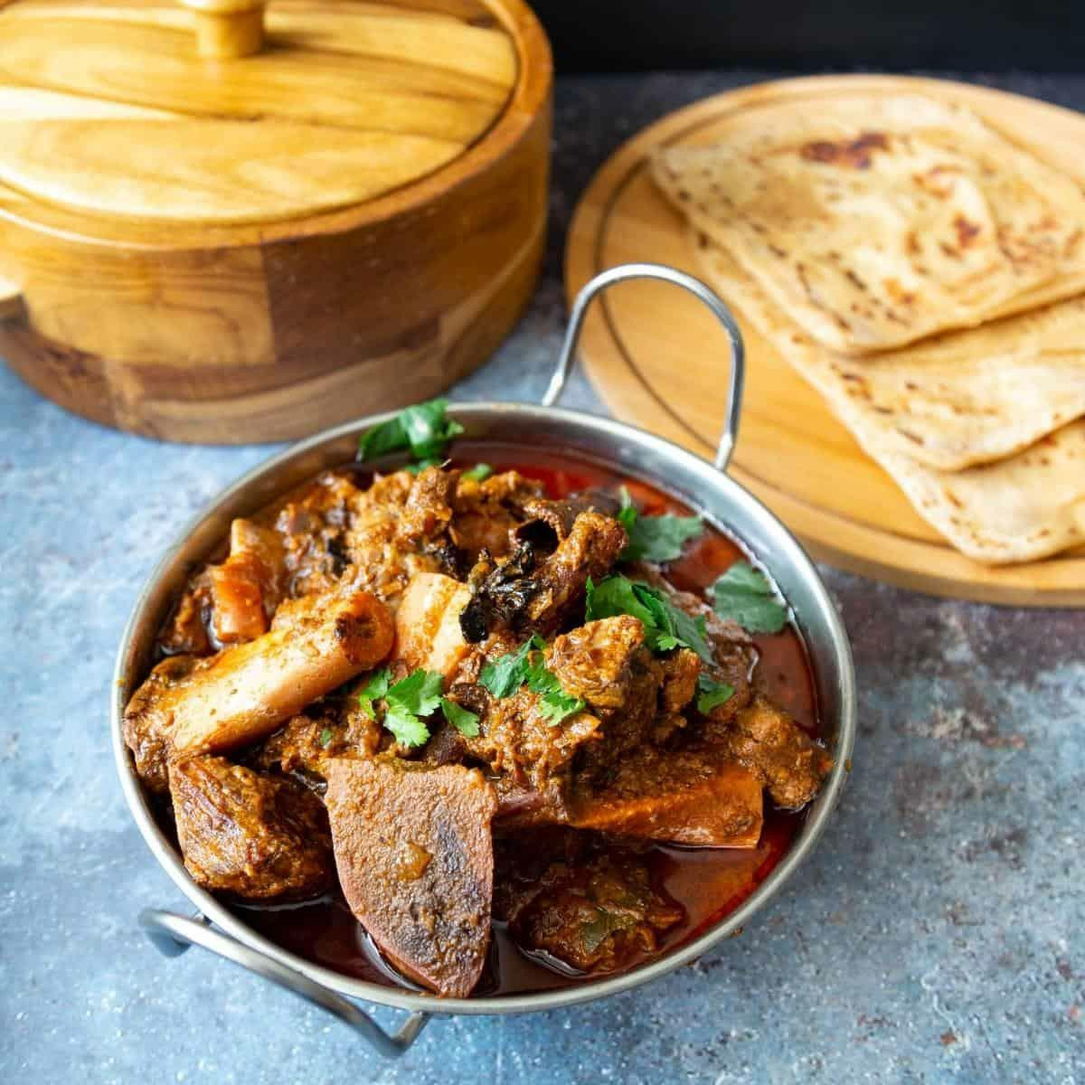MuttonCurry: (125, 447, 826, 995)
